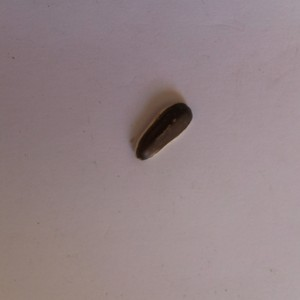girasol: (133, 100, 195, 164)
